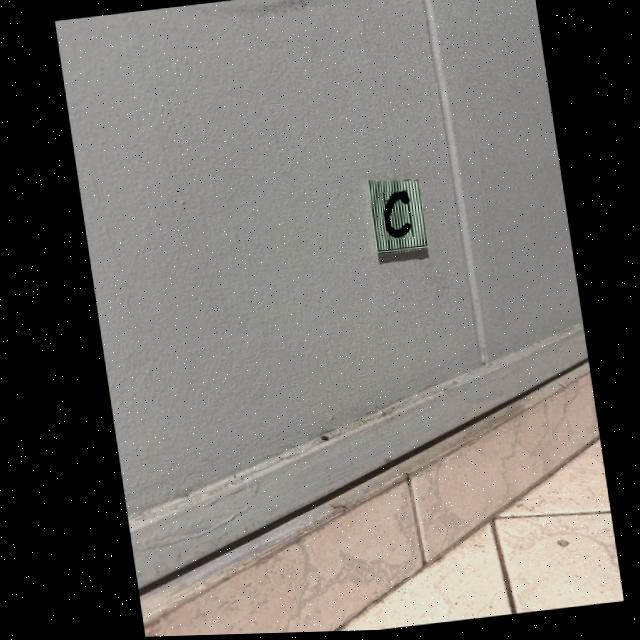C: (381, 193, 408, 240)
